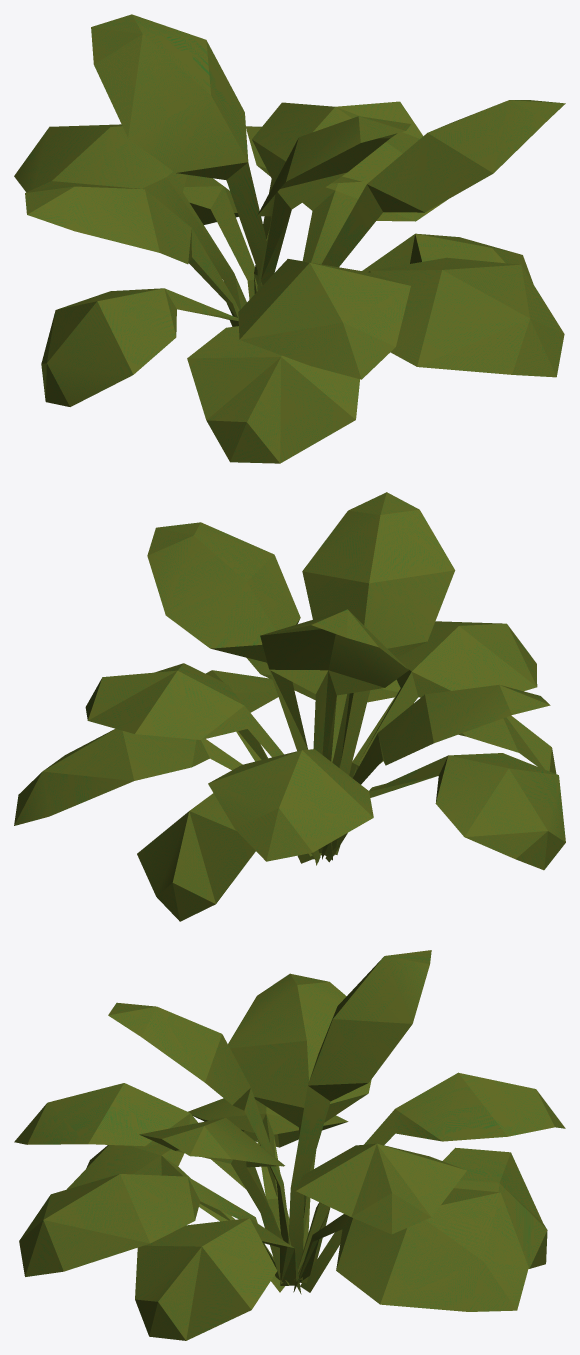
The model's file is Plant_09_LOD1.fbx.
3 renders of one model, top to bottom at view 1: azimuth 30°, elevation 25°; view 2: azimuth 150°, elevation 25°; view 3: azimuth 270°, elevation 25°, orthographic. The views are drawn at different scales.
Visible parts, largest first — view 1: polySurface13; view 2: polySurface13; view 3: polySurface13.
Boxes of the visible parts, <box> form: polySurface13: <box>14,14,565,463</box>; polySurface13: <box>14,492,565,921</box>; polySurface13: <box>14,950,565,1340</box>.
Size of the model in its own units: 179 by 117 by 196.
